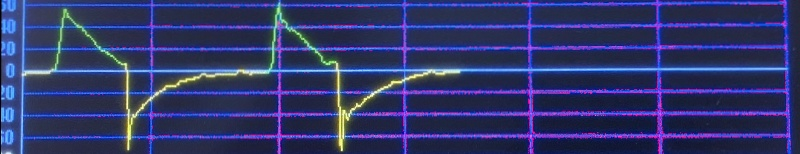normal_flow: (21, 3, 461, 154)
